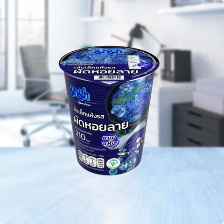paper_cup: (52, 40, 164, 180)
